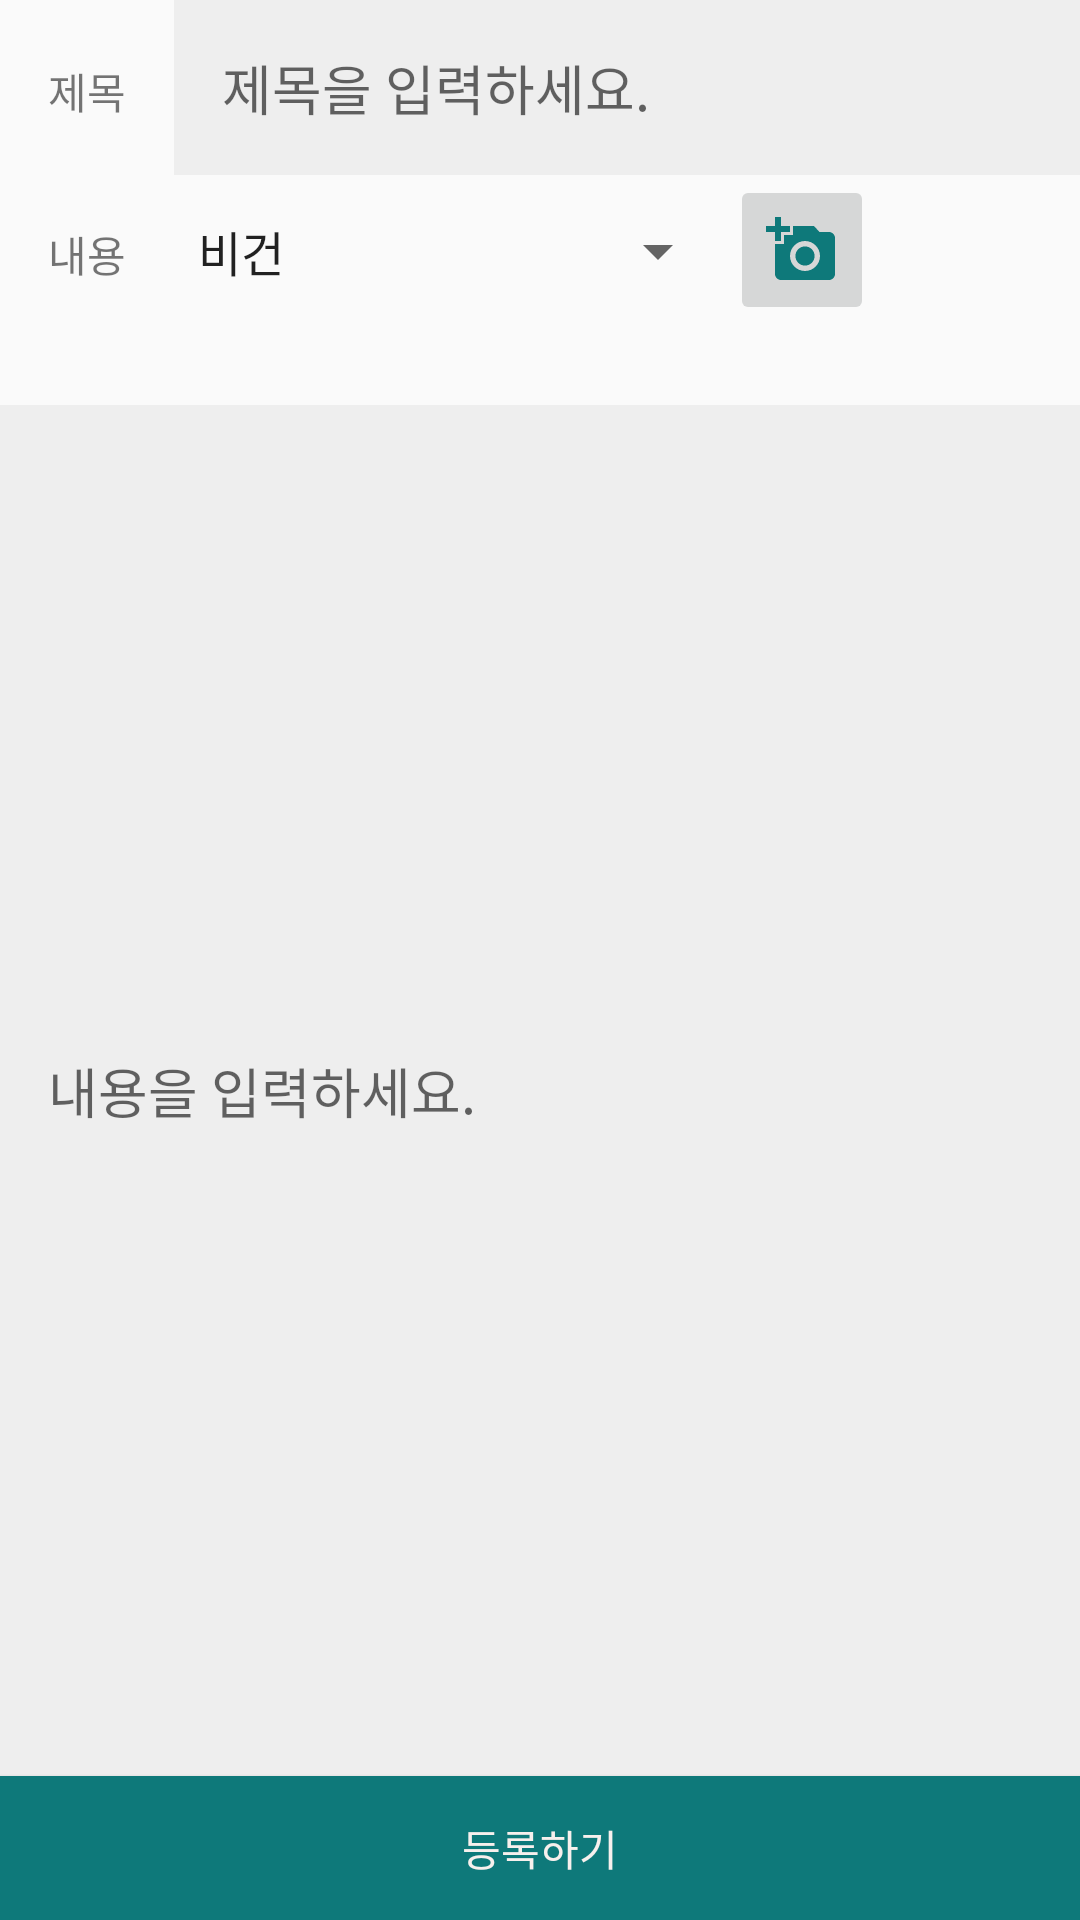

Icon bounding boxes for this 1080*1920 phone screenshot, format (x1, y1, x2, y2):
add photo: (742, 193, 862, 307)
